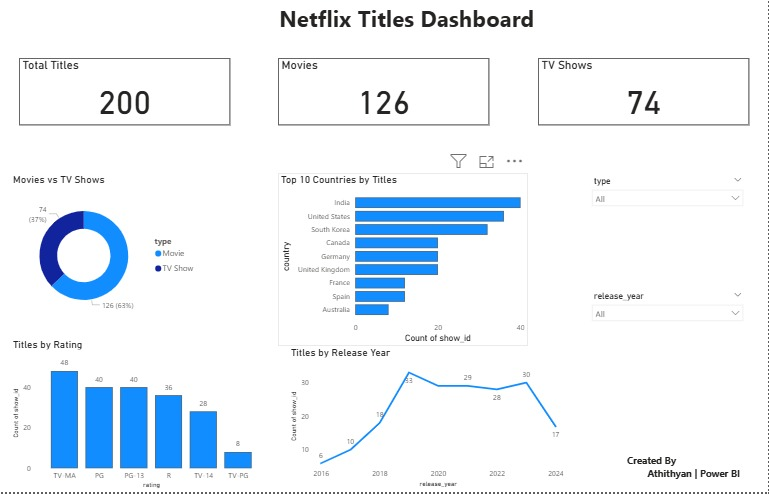

Layout of this report page (visuals, bound fields, positions):
{"tool":"powerbi","page":{"name":"Page 1","canvas":[1280,820],"ordinal":0},"visuals":[{"type":"card","title":"Total Titles","fields":{"Values":["CountNonNull(netflix_titles.show_id)"]},"box":[32,96,352,112],"z":0},{"type":"card","title":"Movies","fields":{"Values":["CountNonNull(netflix_titles.show_id)"]},"box":[464,96,352,112],"z":1000},{"type":"card","title":"TV Shows","fields":{"Values":["CountNonNull(netflix_titles.show_id)"]},"box":[896,96,352,112],"z":2000},{"type":"donutChart","title":"Movies vs TV Shows","fields":{"Category":["netflix_titles.type"],"Y":["CountNonNull(netflix_titles.show_id)"]},"box":[16,288,320,256],"z":3000},{"type":"clusteredBarChart","title":"Top 10 Countries by Titles","fields":{"Category":["netflix_titles.country"],"Y":["CountNonNull(netflix_titles.show_id)"]},"box":[464,288,416,288],"z":4000},{"type":"clusteredColumnChart","title":"Titles by Rating","fields":{"Category":["netflix_titles.rating"],"Y":["CountNonNull(netflix_titles.show_id)"]},"box":[16,564,432,256],"z":5000},{"type":"slicer","fields":{"Values":["netflix_titles.type"]},"box":[976,288,272,144],"z":6000},{"type":"slicer","fields":{"Values":["netflix_titles.release_year"]},"box":[976,480,272,144],"z":7000},{"type":"lineChart","title":"Titles by Release Year","fields":{"Category":["netflix_titles.release_year"],"Y":["CountNonNull(netflix_titles.show_id)"]},"box":[480,576,464,240],"z":8000},{"type":"textbox","box":[336,0,608,60],"z":9000},{"type":"textbox","box":[1040,752,208,60],"z":9001}]}

Visuals, with their boxes in screenshot pixels (x1, y1, x2, y2), scaled from the page's 1280x820 canvas onto the 769x495 screenshot:
"Total Titles" card: detection(19, 58, 231, 126)
"Movies" card: detection(279, 58, 490, 126)
"TV Shows" card: detection(538, 58, 750, 126)
"Movies vs TV Shows" donutChart: detection(10, 174, 202, 328)
"Top 10 Countries by Titles" clusteredBarChart: detection(279, 174, 529, 348)
"Titles by Rating" clusteredColumnChart: detection(10, 340, 269, 494)
slicer - netflix_titles.type: detection(586, 174, 750, 261)
slicer - netflix_titles.release_year: detection(586, 290, 750, 377)
"Titles by Release Year" lineChart: detection(288, 348, 567, 493)
textbox: detection(202, 0, 567, 36)
textbox: detection(625, 454, 750, 490)
